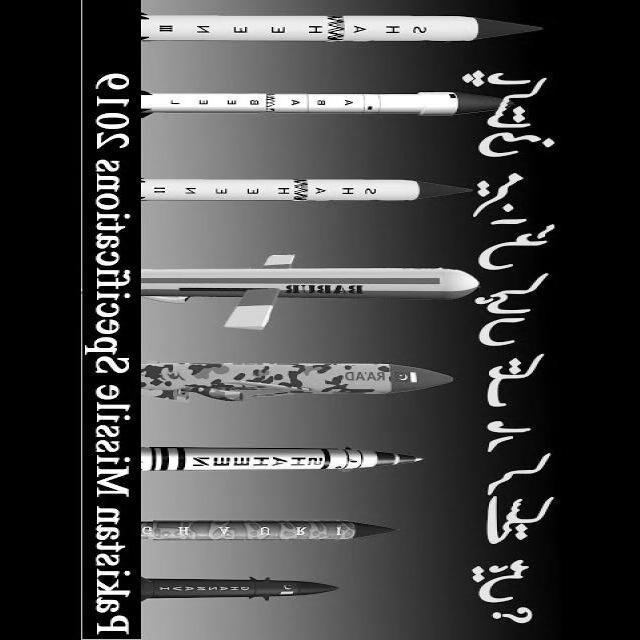Missile: (137, 260, 473, 306), (140, 357, 458, 401), (133, 11, 548, 43), (140, 173, 475, 207), (143, 88, 523, 117), (140, 444, 423, 473), (135, 516, 397, 542), (138, 576, 338, 601)
